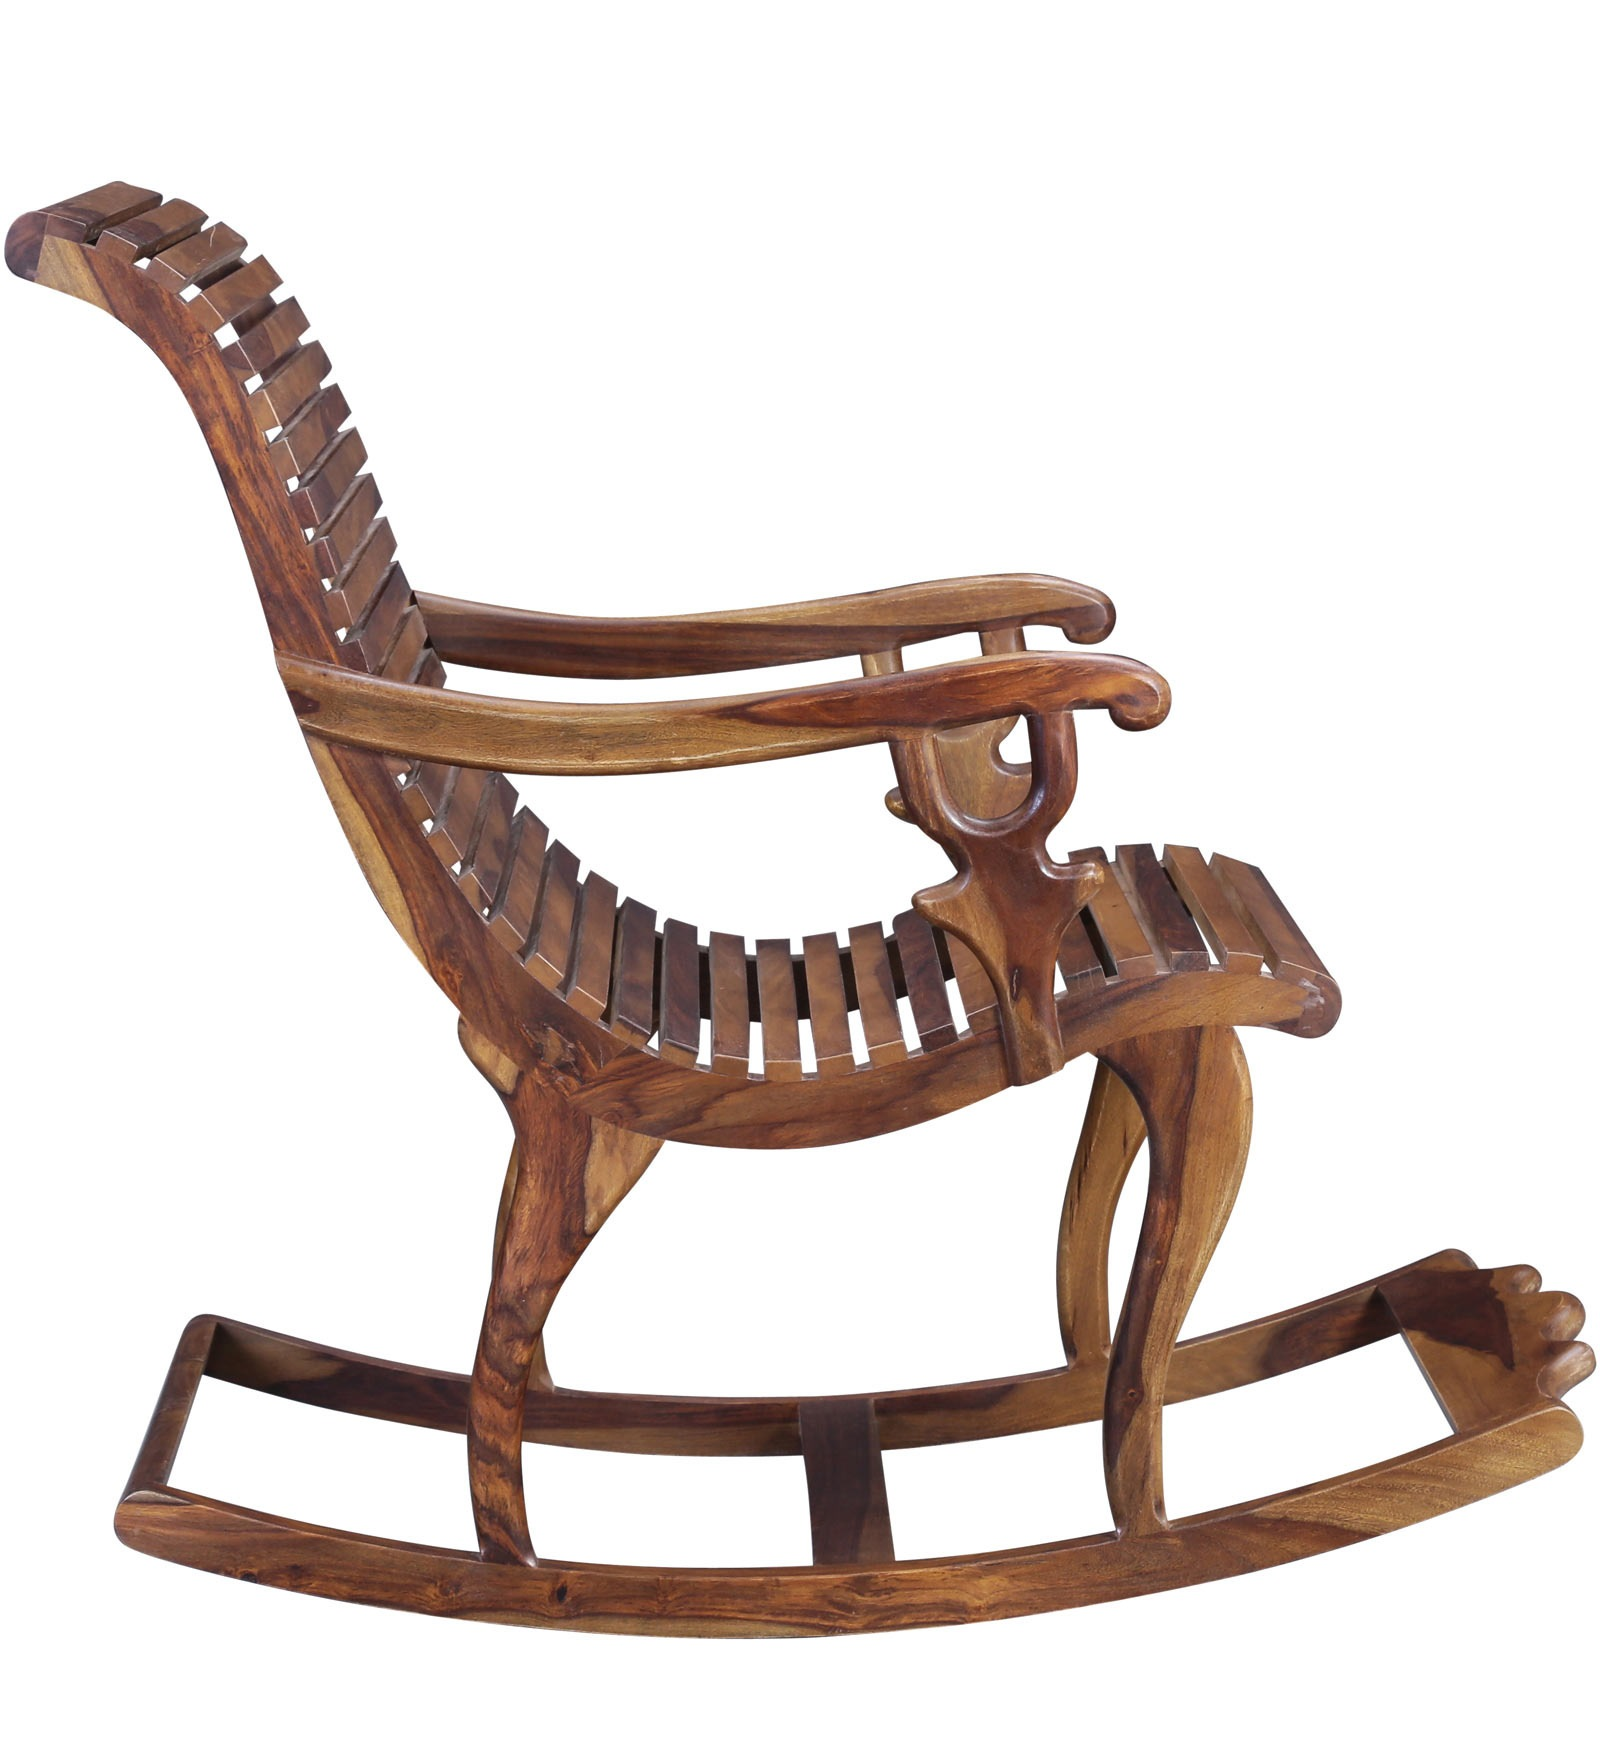Acklom Rocking Chair in Provincial Teak Finish by Amberville: (9, 147, 1600, 1686)
